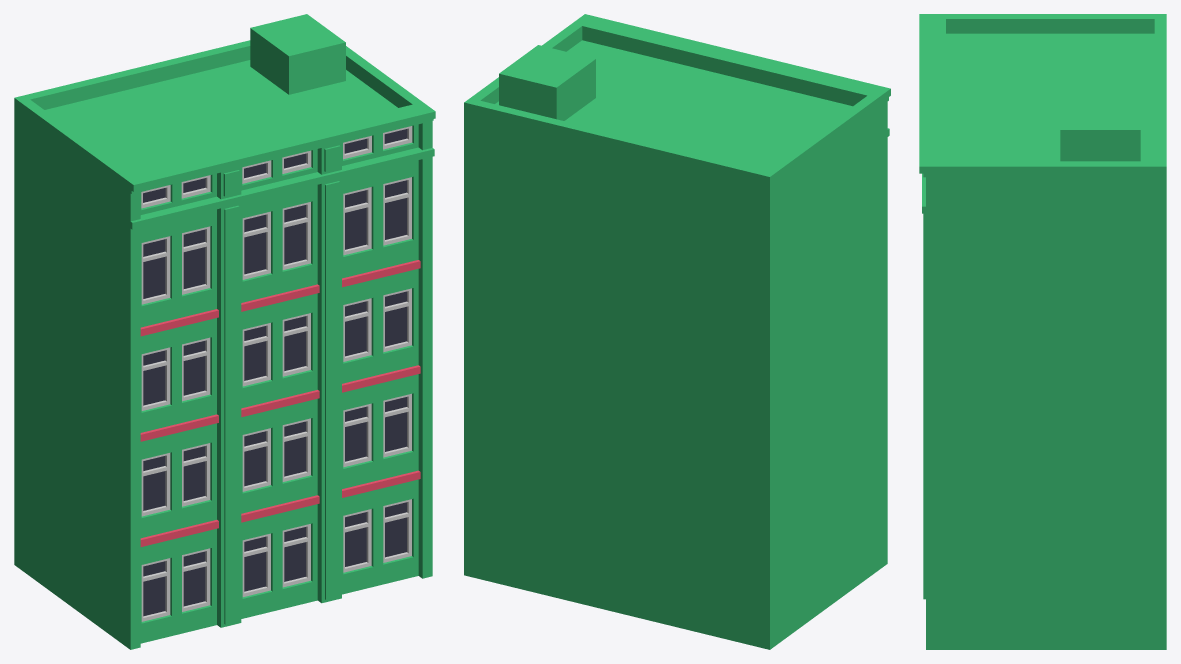
The model's file is 3buildingbody.gltf.
3 renders of one model, left to right at view 1: azimuth 30°, elevation 25°; view 2: azimuth 150°, elevation 25°; view 3: azimuth 270°, elevation 25°, orthographic. The views are drawn at different scales.
Visible parts, largest first — view 1: Main building, Window glass, Window frames, Decors; view 2: Main building; view 3: Main building.
Boxes of the visible parts, bbox=[...] form: Main building: bbox=[14, 14, 435, 649]; Window glass: bbox=[143, 129, 407, 616]; Window frames: bbox=[141, 126, 412, 621]; Decors: bbox=[140, 260, 420, 546]; Main building: bbox=[464, 14, 890, 649]; Main building: bbox=[919, 14, 1166, 649].
Size of the model in its own units: 0.09 by 0.14 by 0.0616.
